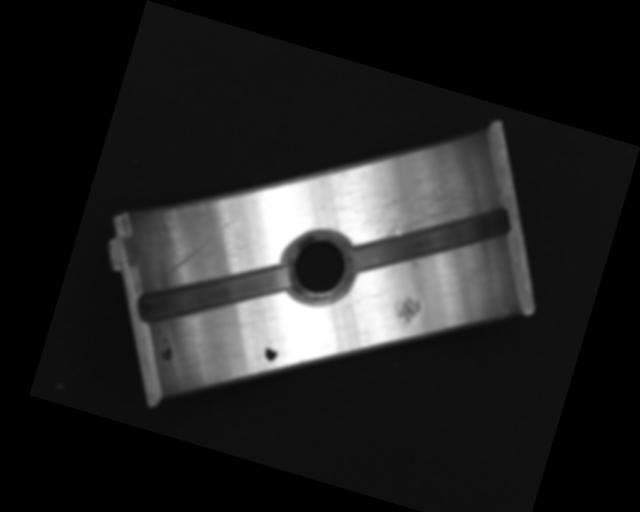blot: (157, 338, 175, 364), (262, 341, 280, 363)
bruise: (392, 293, 424, 333)
gap: (347, 171, 514, 310), (133, 229, 294, 359)
hole: (274, 222, 362, 314)
nick: (167, 205, 234, 289)
scratch: (360, 149, 486, 272)
